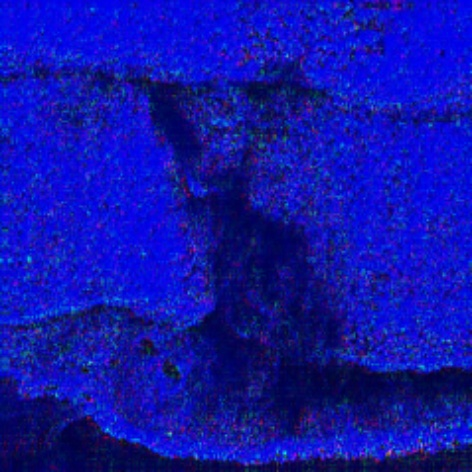rip_current: (101, 45, 355, 426)
